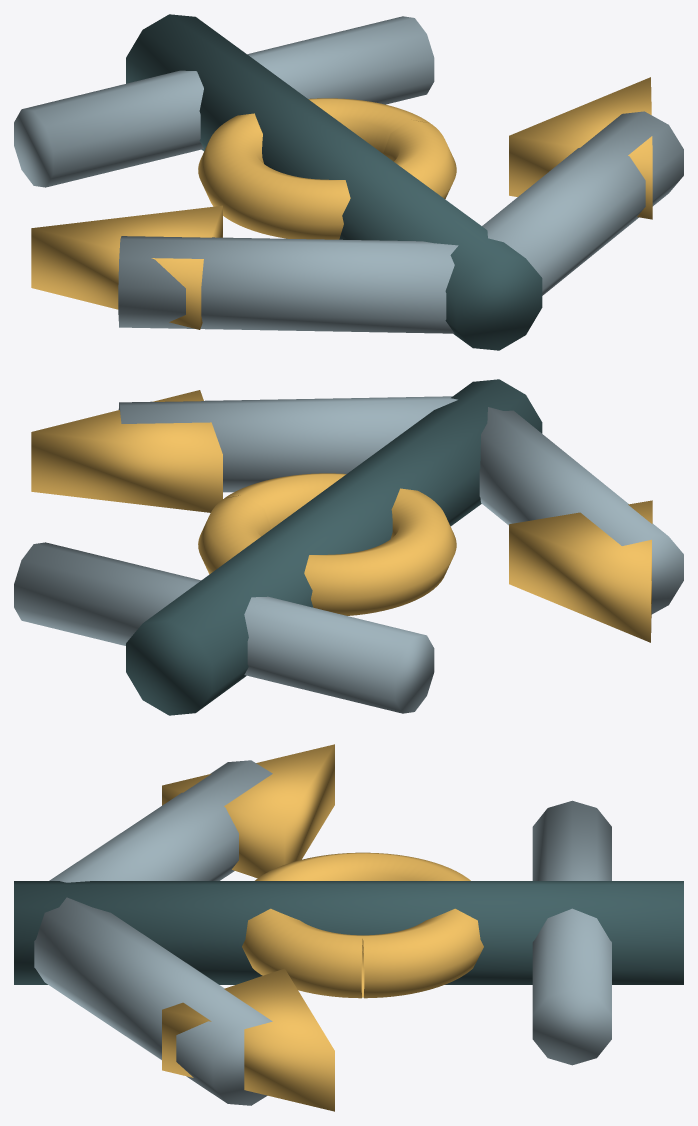
Rendered from anchor.glb.
The picture shows the model from 3 angles, top to bottom: view 1: azimuth 30°, elevation 25°; view 2: azimuth 150°, elevation 25°; view 3: azimuth 270°, elevation 25°; orthographic projection.
Parts seen in each view (by area): view 1: Anchor spine, Anchor fluke, Anchor stock, Anchor eye, Anchor fluke.001, Hook, Hook.001; view 2: Anchor spine, Anchor stock, Anchor eye, Anchor fluke.001, Hook.001, Anchor fluke, Hook; view 3: Anchor spine, Anchor fluke.001, Anchor eye, Anchor stock, Anchor fluke, Hook.001, Hook.
Boxes of the visible parts, bbox=[...] form: Anchor spine: bbox=[126, 14, 542, 350]; Anchor fluke: bbox=[118, 236, 458, 333]; Anchor stock: bbox=[14, 16, 434, 187]; Anchor eye: bbox=[198, 98, 456, 239]; Anchor fluke.001: bbox=[482, 111, 683, 295]; Hook: bbox=[31, 205, 222, 329]; Hook.001: bbox=[509, 77, 652, 219]; Anchor spine: bbox=[126, 379, 542, 715]; Anchor stock: bbox=[14, 542, 434, 713]; Anchor eye: bbox=[198, 473, 456, 615]; Anchor fluke.001: bbox=[118, 396, 457, 492]; Hook.001: bbox=[31, 390, 222, 512]; Anchor fluke: bbox=[479, 407, 683, 614]; Hook: bbox=[509, 500, 652, 642]; Anchor spine: bbox=[14, 881, 683, 984]; Anchor fluke.001: bbox=[34, 897, 272, 1105]; Anchor eye: bbox=[242, 852, 483, 998]; Anchor stock: bbox=[532, 800, 611, 1065]; Anchor fluke: bbox=[49, 760, 272, 882]; Hook.001: bbox=[162, 968, 334, 1111]; Hook: bbox=[162, 744, 334, 878].
Size of the model in its own units: 2.6 by 0.38 by 2.4.
